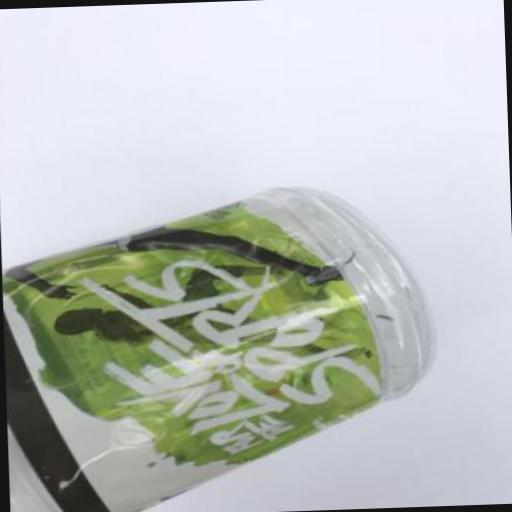plastic: (0, 180, 441, 512), (0, 193, 385, 512)
